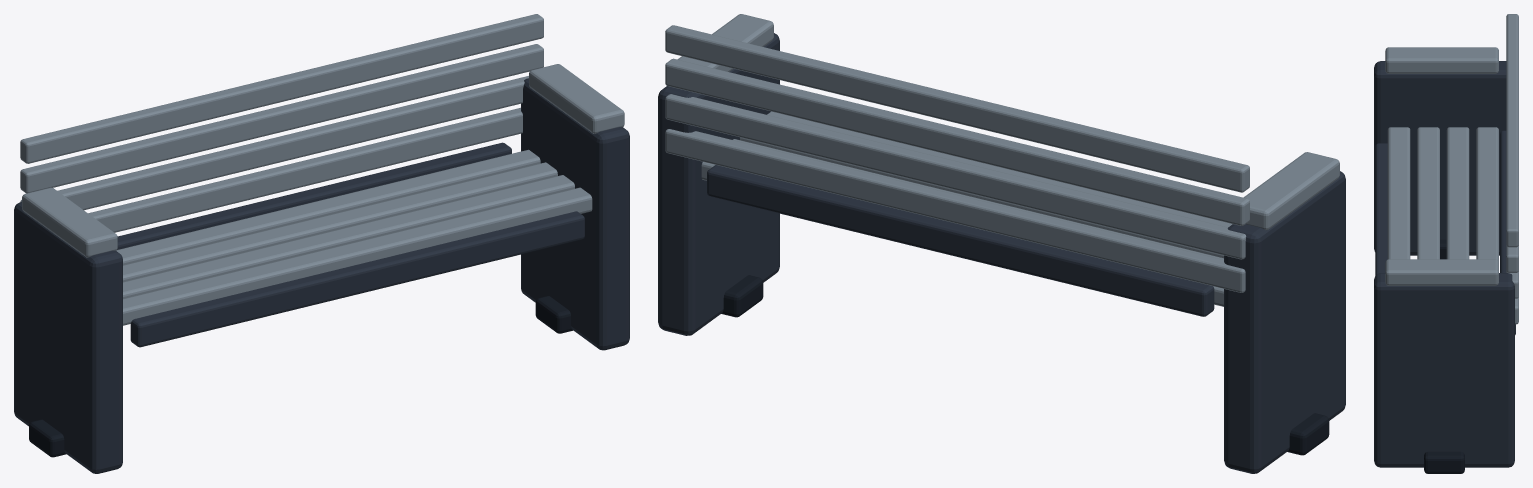
Rendered from prop_bench_futuristic_a_v01.glb.
3 renders of one model, left to right at view 1: azimuth 30°, elevation 25°; view 2: azimuth 150°, elevation 25°; view 3: azimuth 270°, elevation 25°, orthographic. The views are drawn at different scales.
Parts seen in each view (by area): view 1: component__side_frames__left_side_frame, component__side_frames__right_side_frame, component__back_structure__back_slat.003, component__back_structure__back_slat.002, component__supports__front_support, component__back_structure__back_slat.001, component__back_structure__back_slat, component__seat_structure__seat_slat.001, component__seat_structure__seat_slat.002, component__seat_structure__seat_slat.003, component__seat_structure__seat_slat, component__supports__rear_support (+4 smaller); view 2: component__side_frames__left_side_frame, component__back_structure__back_slat.003, component__back_structure__back_slat.002, component__back_structure__back_slat.001, component__supports__rear_support, component__back_structure__back_slat, component__side_frames__right_side_frame, component__armrests__left_armrest, component__seat_structure__seat_slat.001, component__seat_structure__seat_slat.002, component__armrests__right_armrest, component__anchored_feet__left_foot (+2 smaller); view 3: component__side_frames__right_side_frame, component__side_frames__left_side_frame, component__seat_structure__seat_slat.001, component__seat_structure__seat_slat.003, component__armrests__left_armrest, component__armrests__right_armrest, component__seat_structure__seat_slat, component__seat_structure__seat_slat.002, component__back_structure__back_slat.003, component__supports__front_support, component__supports__rear_support, component__anchored_feet__right_foot (+1 smaller).
Part boxes in pixels (<box>): component__side_frames__left_side_frame: <box>14,202,122,473</box>; component__side_frames__right_side_frame: <box>521,78,629,350</box>; component__back_structure__back_slat.003: <box>20,14,543,163</box>; component__back_structure__back_slat.002: <box>20,44,543,193</box>; component__supports__front_support: <box>130,211,584,347</box>; component__back_structure__back_slat.001: <box>20,76,528,210</box>; component__back_structure__back_slat: <box>88,107,522,232</box>; component__seat_structure__seat_slat.001: <box>123,187,592,325</box>; component__seat_structure__seat_slat.002: <box>123,175,574,298</box>; component__seat_structure__seat_slat.003: <box>123,162,557,281</box>; component__seat_structure__seat_slat: <box>116,149,540,265</box>; component__supports__rear_support: <box>117,142,511,249</box>; component__side_frames__left_side_frame: <box>1224,171,1345,473</box>; component__back_structure__back_slat.003: <box>665,25,1249,192</box>; component__back_structure__back_slat.002: <box>665,58,1249,225</box>; component__back_structure__back_slat.001: <box>665,94,1246,259</box>; component__supports__rear_support: <box>707,165,1214,316</box>; component__back_structure__back_slat: <box>665,129,1245,292</box>; component__side_frames__right_side_frame: <box>658,33,779,335</box>; component__armrests__left_armrest: <box>1243,152,1339,230</box>; component__seat_structure__seat_slat.001: <box>767,111,1232,227</box>; component__seat_structure__seat_slat.002: <box>740,137,1223,258</box>; component__armrests__right_armrest: <box>677,14,773,71</box>; component__anchored_feet__left_foot: <box>1287,413,1329,455</box>; component__side_frames__right_side_frame: <box>1374,273,1514,467</box>; component__side_frames__left_side_frame: <box>1374,61,1506,255</box>; component__seat_structure__seat_slat.001: <box>1387,127,1410,259</box>; component__seat_structure__seat_slat.003: <box>1446,127,1469,259</box>; component__armrests__left_armrest: <box>1385,47,1498,73</box>; component__armrests__right_armrest: <box>1385,259,1498,285</box>; component__seat_structure__seat_slat: <box>1476,127,1498,261</box>; component__seat_structure__seat_slat.002: <box>1417,127,1439,259</box>; component__back_structure__back_slat.003: <box>1506,14,1518,247</box>; component__supports__front_support: <box>1375,143,1387,275</box>; component__supports__rear_support: <box>1500,130,1515,334</box>; component__anchored_feet__right_foot: <box>1424,451,1464,473</box>.
Size of the model in its own units: 1.78 by 0.8235 by 0.459.
